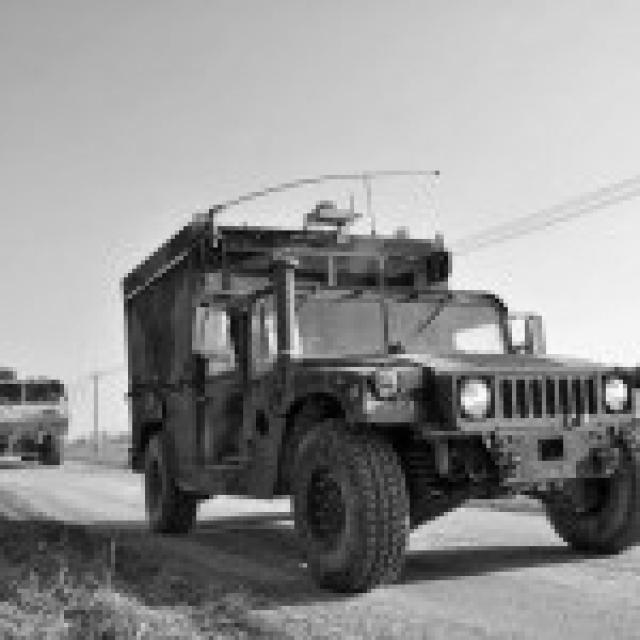Car: (123, 204, 640, 593)
